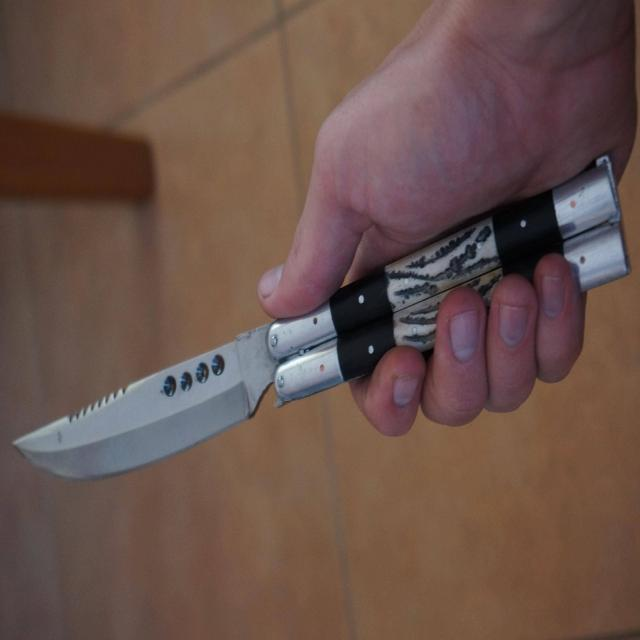knife: (4, 142, 631, 497)
